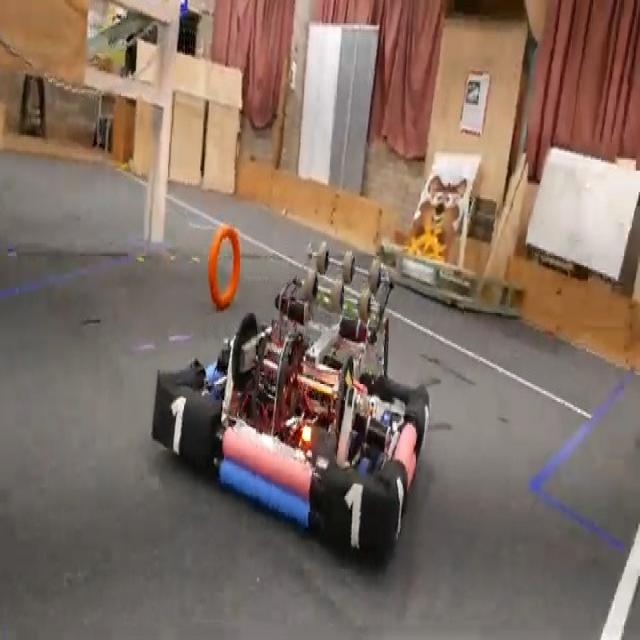note: (206, 221, 242, 312)
